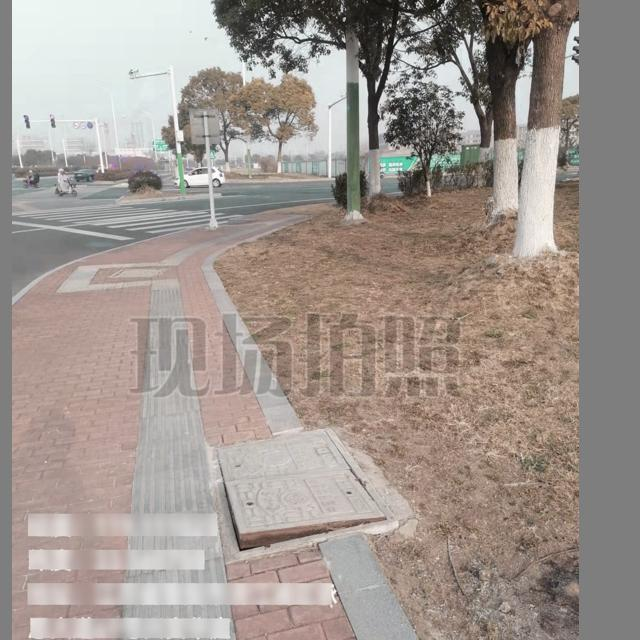uncovered: (206, 423, 393, 564)
